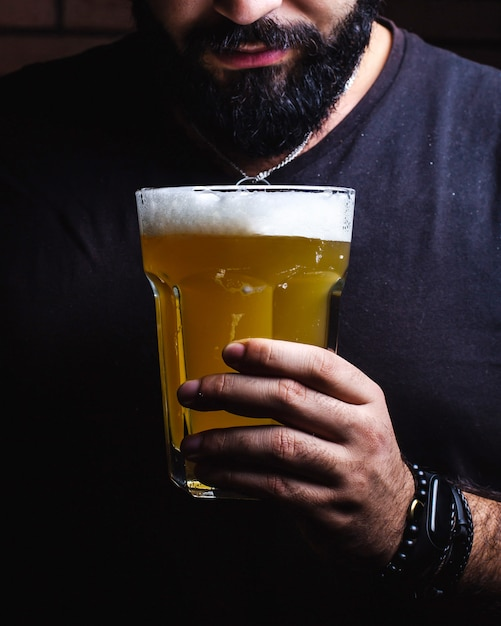alcohol: (138, 186, 355, 505)
